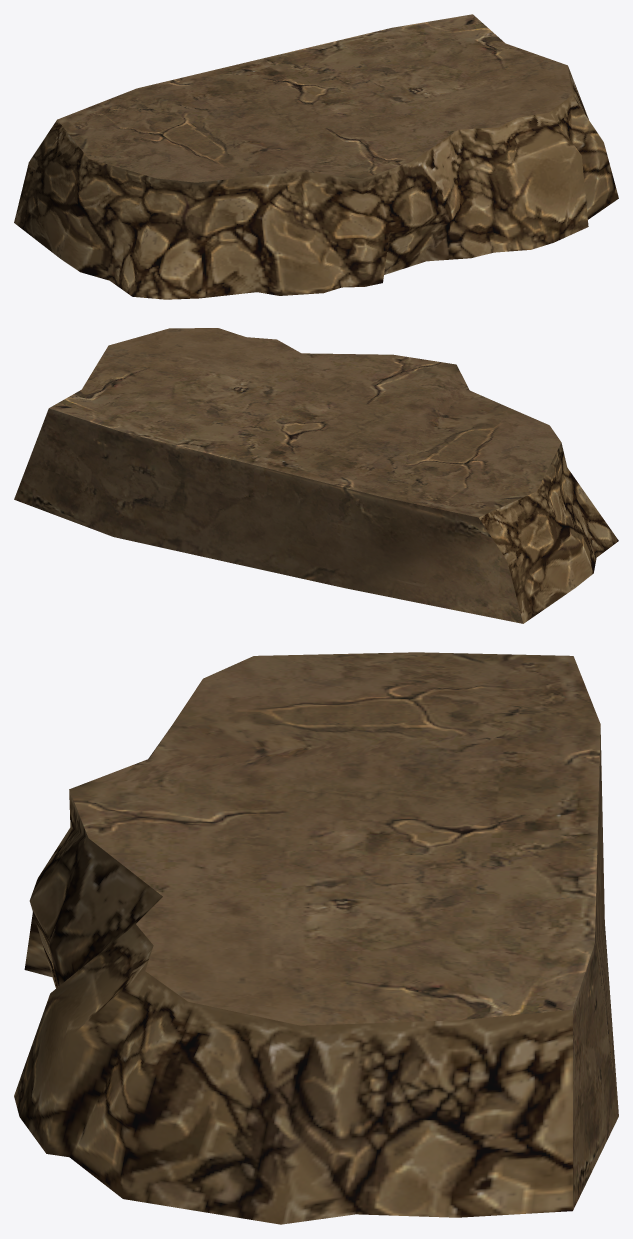
File: A_shitou001.fbx
3 renders of one model, top to bottom at view 1: azimuth 30°, elevation 25°; view 2: azimuth 150°, elevation 25°; view 3: azimuth 270°, elevation 25°, orthographic. The views are drawn at different scales.
Parts seen in each view (by area): view 1: A_shitou001; view 2: A_shitou001; view 3: A_shitou001.
Part boxes in pixels (x1,y1,x2,y2): A_shitou001: [14, 14, 618, 299]; A_shitou001: [14, 328, 618, 623]; A_shitou001: [14, 652, 618, 1224].
Bounding box in the file's own units: 542 × 99.64 × 312.
